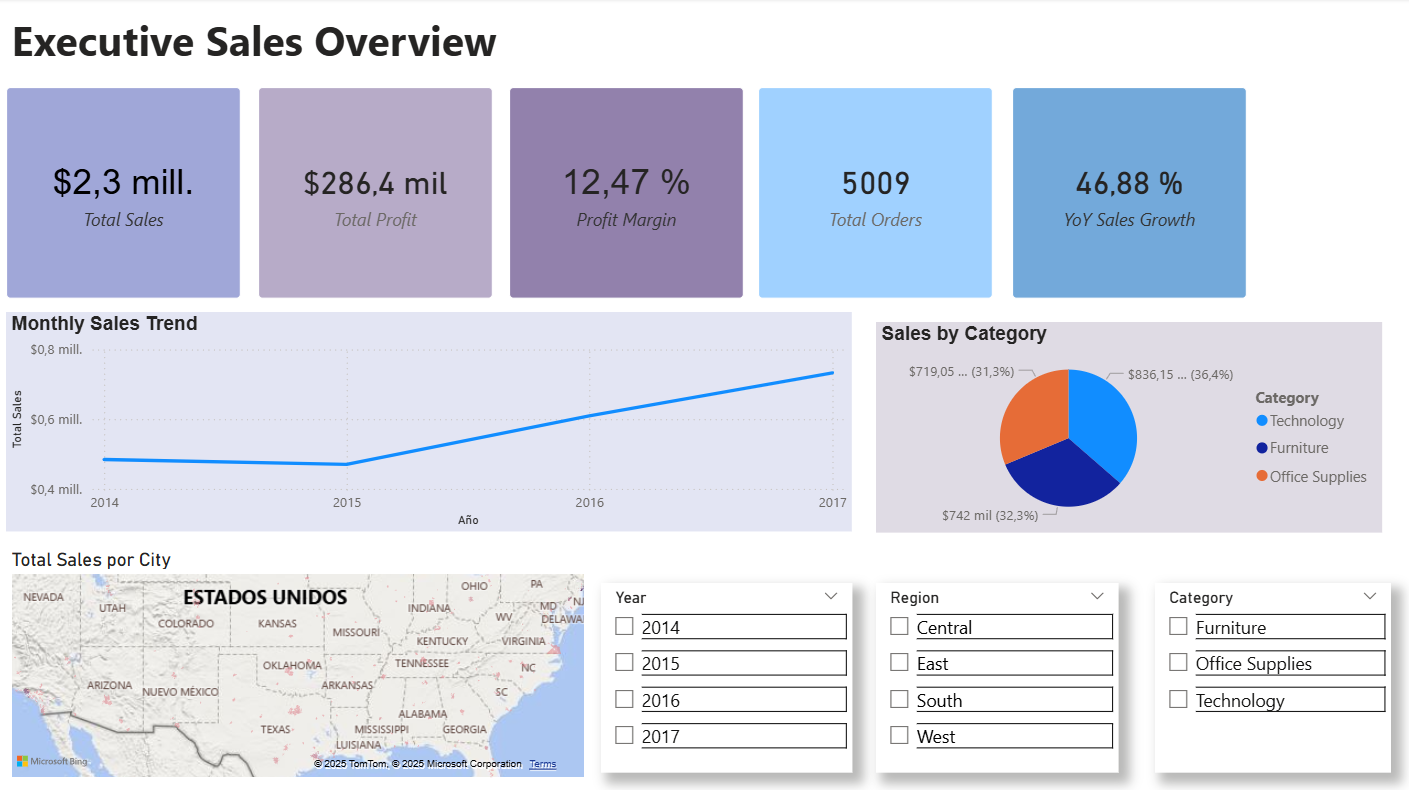

This screenshot's page, from the dashboard's own definition file:
{"tool":"powerbi","page":{"name":"Executive Sales Overview","canvas":[1280,720],"ordinal":1},"visuals":[{"type":"card","fields":{"Values":["superstore.Total Sales"]},"box":[6.8,80.7,213,191.6],"z":0},{"type":"card","fields":{"Values":["superstore.Total Orders"]},"box":[689.6,80.7,213,191.6],"z":1000},{"type":"card","fields":{"Values":["superstore.Total Profit"]},"box":[235.4,80.7,213,191.6],"z":2000},{"type":"card","fields":{"Values":["superstore.Profit Margin"]},"box":[463,80.7,213,191.6],"z":3000},{"type":"card","fields":{"Values":["Calendar.YoY Sales Growth"]},"box":[919.1,80.7,213,191.6],"z":4000},{"type":"textbox","box":[6.8,6.8,508.7,62.2],"z":5000},{"type":"lineChart","title":"Monthly Sales Trend","fields":{"Category":["Calendar.Date.Variación.Jerarquía de fechas.Año","Calendar.Date.Variación.Jerarquía de fechas.Trimestre","Calendar.Date.Variación.Jerarquía de fechas.Mes","Calendar.Date.Variación.Jerarquía de fechas.Día"],"Y":["superstore.Total Sales"]},"box":[6.8,285,767.4,199.4],"z":6000},{"type":"pieChart","title":"Sales by Category","fields":{"Category":["superstore.Category"],"Y":["superstore.Total Sales"]},"box":[796.6,293.7,459.1,190.6],"z":7000},{"type":"filledMap","fields":{"Category":["superstore.City"]},"box":[6.8,499,529.1,213],"z":8000},{"type":"slicer","fields":{"Values":["Calendar.Year"]},"box":[546.6,530.1,227.6,172.2],"z":9000},{"type":"slicer","fields":{"Values":["superstore.Region"]},"box":[796.6,530.1,219.8,172.2],"z":10000},{"type":"slicer","fields":{"Values":["superstore.Category"]},"box":[1049.5,530.1,214,172.2],"z":11000}]}

Visuals, with their boxes in screenshot pixels (x1, y1, x2, y2), scaled from the page's 1280x720 canvas onto the 1409x790 screenshot:
card - superstore.Total Sales: 7, 89, 242, 299
card - superstore.Total Orders: 759, 89, 994, 299
card - superstore.Total Profit: 259, 89, 494, 299
card - superstore.Profit Margin: 510, 89, 744, 299
card - Calendar.YoY Sales Growth: 1012, 89, 1246, 299
textbox: 7, 7, 567, 76
"Monthly Sales Trend" lineChart: 7, 313, 852, 531
"Sales by Category" pieChart: 877, 322, 1382, 531
filledMap - superstore.City: 7, 548, 590, 781
slicer - Calendar.Year: 602, 582, 852, 771
slicer - superstore.Region: 877, 582, 1119, 771
slicer - superstore.Category: 1155, 582, 1391, 771
